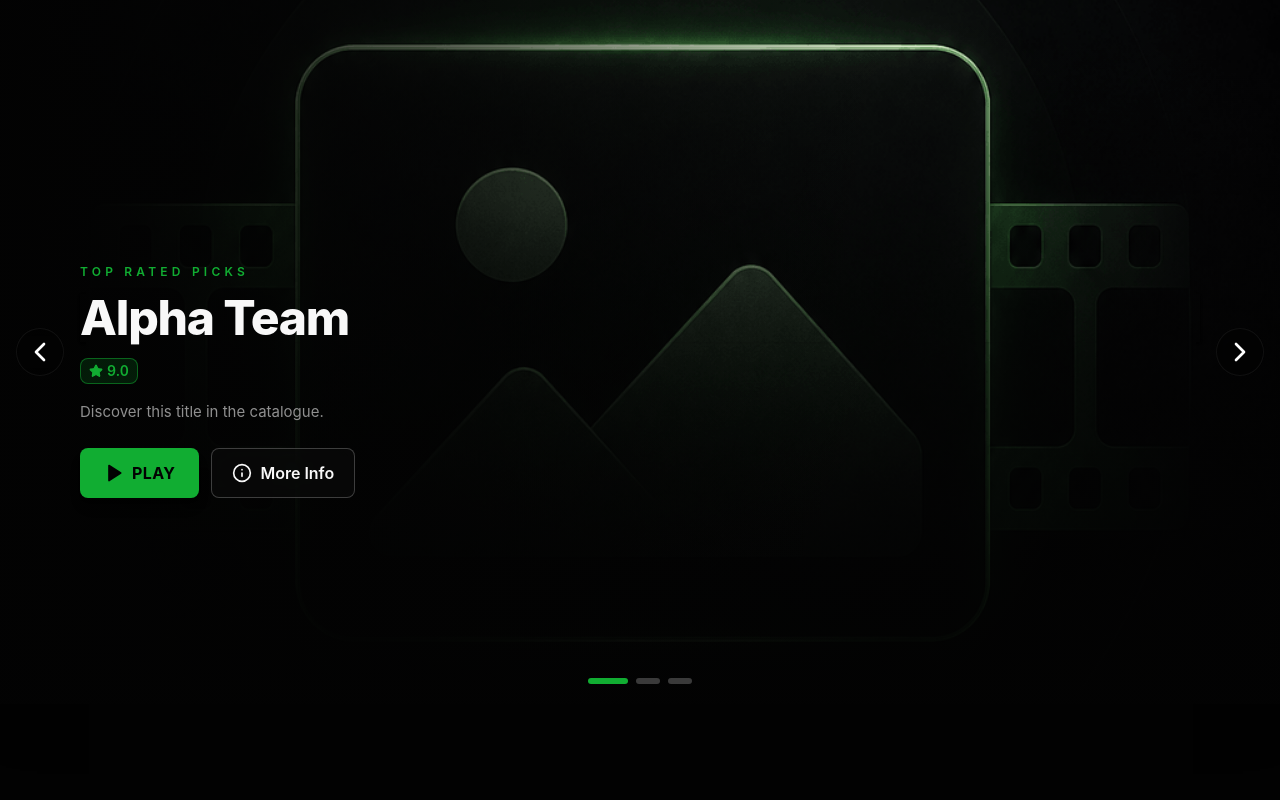
Test case: FeaturedHeroSlider › selects a slide when clicking a pagination dot
Click the radio button named "Featured slide 2 of 3": [648, 681] box left=636, top=678, right=660, bottom=684
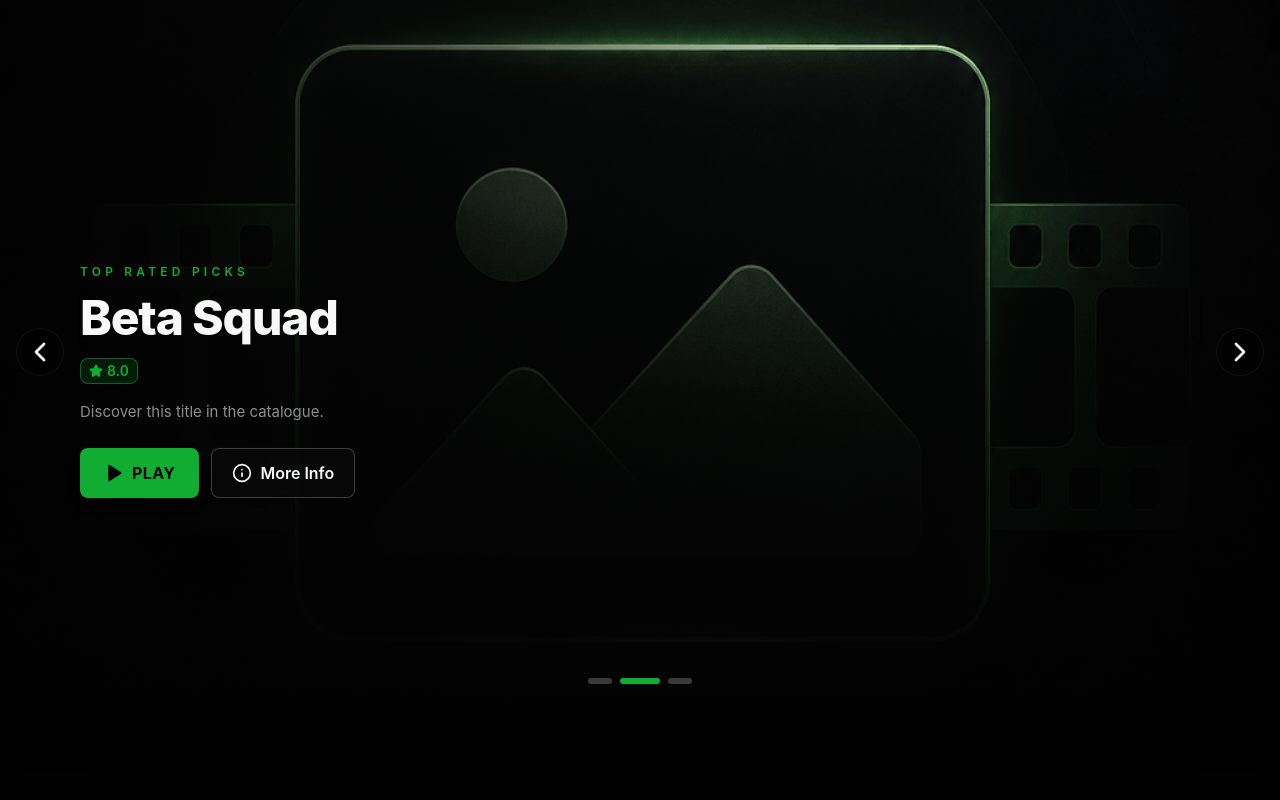
Now the heading "Beta Squad" is shown, box left=80, top=294, right=1200, bottom=342
